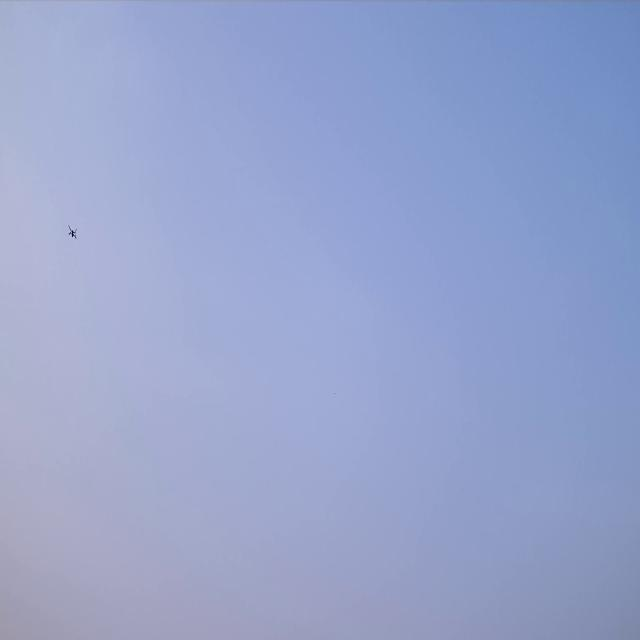UAV: (67, 223, 78, 240)
